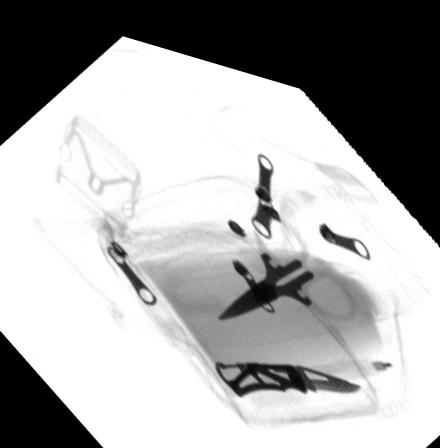Knife: (212, 346, 363, 384)
Scissors: (215, 192, 356, 304)
